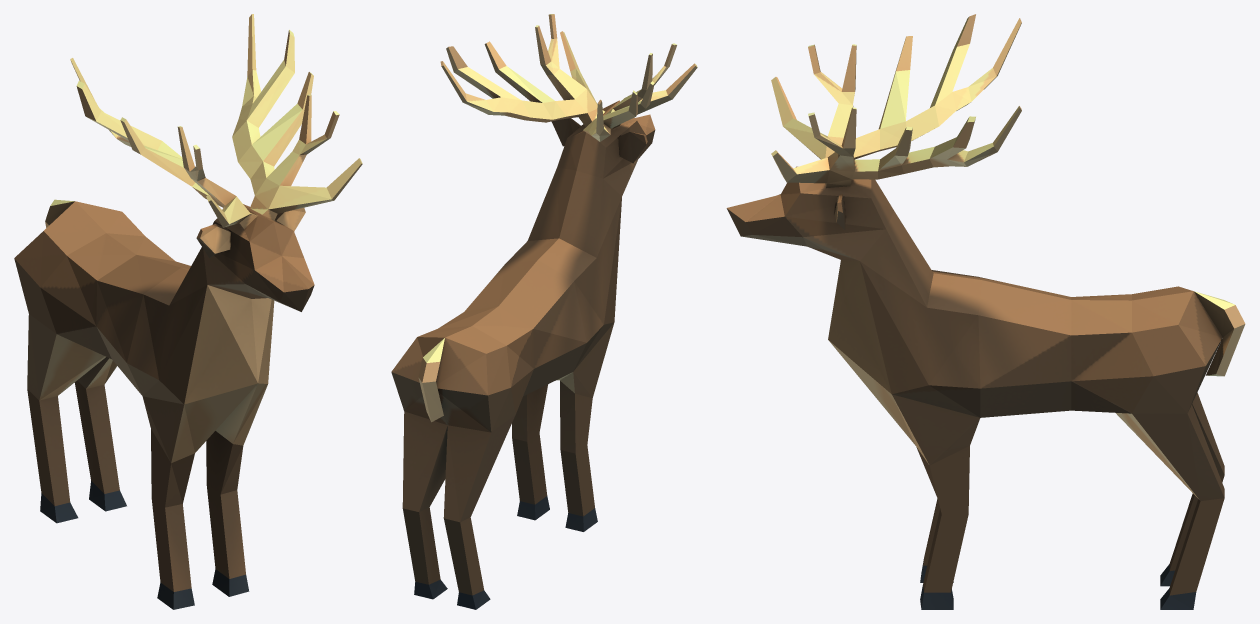
File: christmasDeer.dae
3 views of the same model, side by side, from view 1: azimuth 30°, elevation 25°; view 2: azimuth 150°, elevation 25°; view 3: azimuth 270°, elevation 25° (orthographic). The views are drawn at different scales.
Visible parts, largest first — view 1: deer; view 2: deer; view 3: deer.
Boxes of the visible parts, <box> form: deer: <box>14,14,362,609</box>; deer: <box>391,14,697,609</box>; deer: <box>726,14,1245,609</box>.
Bounding box in the file's own units: 0.8652 × 1.79 × 2.02.
